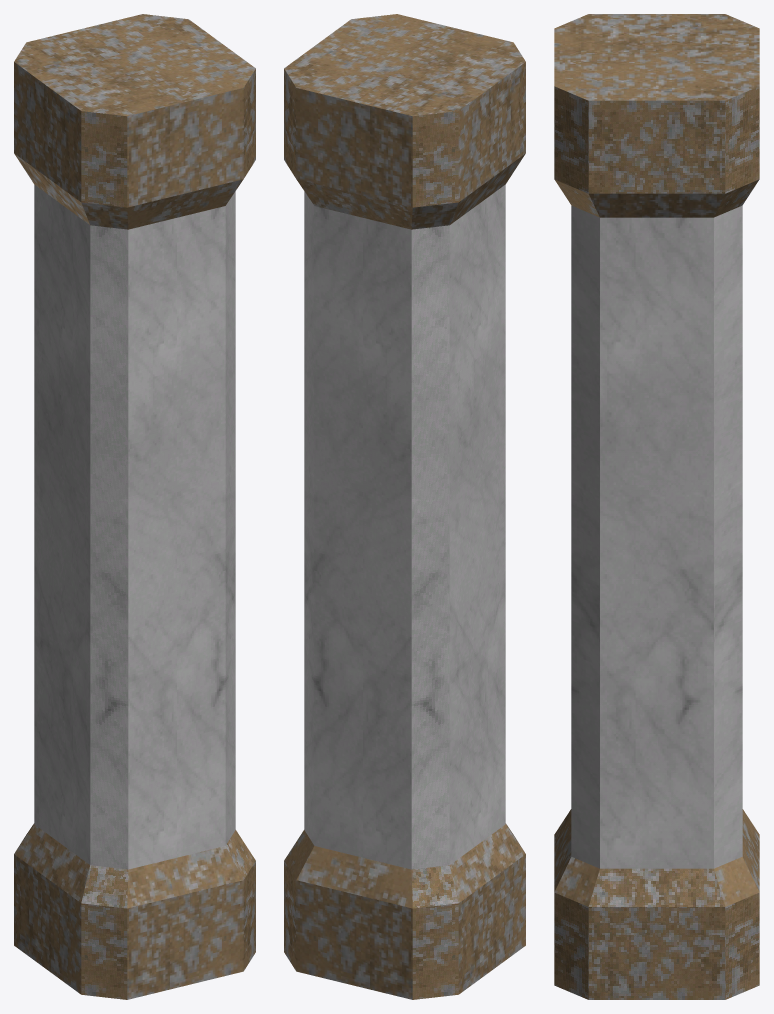
File: CoverColumn.glb
3 views of the same model, side by side, from view 1: azimuth 30°, elevation 25°; view 2: azimuth 150°, elevation 25°; view 3: azimuth 270°, elevation 25° (orthographic).
Visible parts, largest first — view 1: CoverColumn; view 2: CoverColumn; view 3: CoverColumn.
Part boxes in pixels (bbox=[...]): CoverColumn: bbox=[14, 14, 255, 999]; CoverColumn: bbox=[284, 14, 525, 999]; CoverColumn: bbox=[554, 14, 759, 999].
Size of the model in its own units: 3 by 14.5 by 3.
2 materials, 2 textured.
